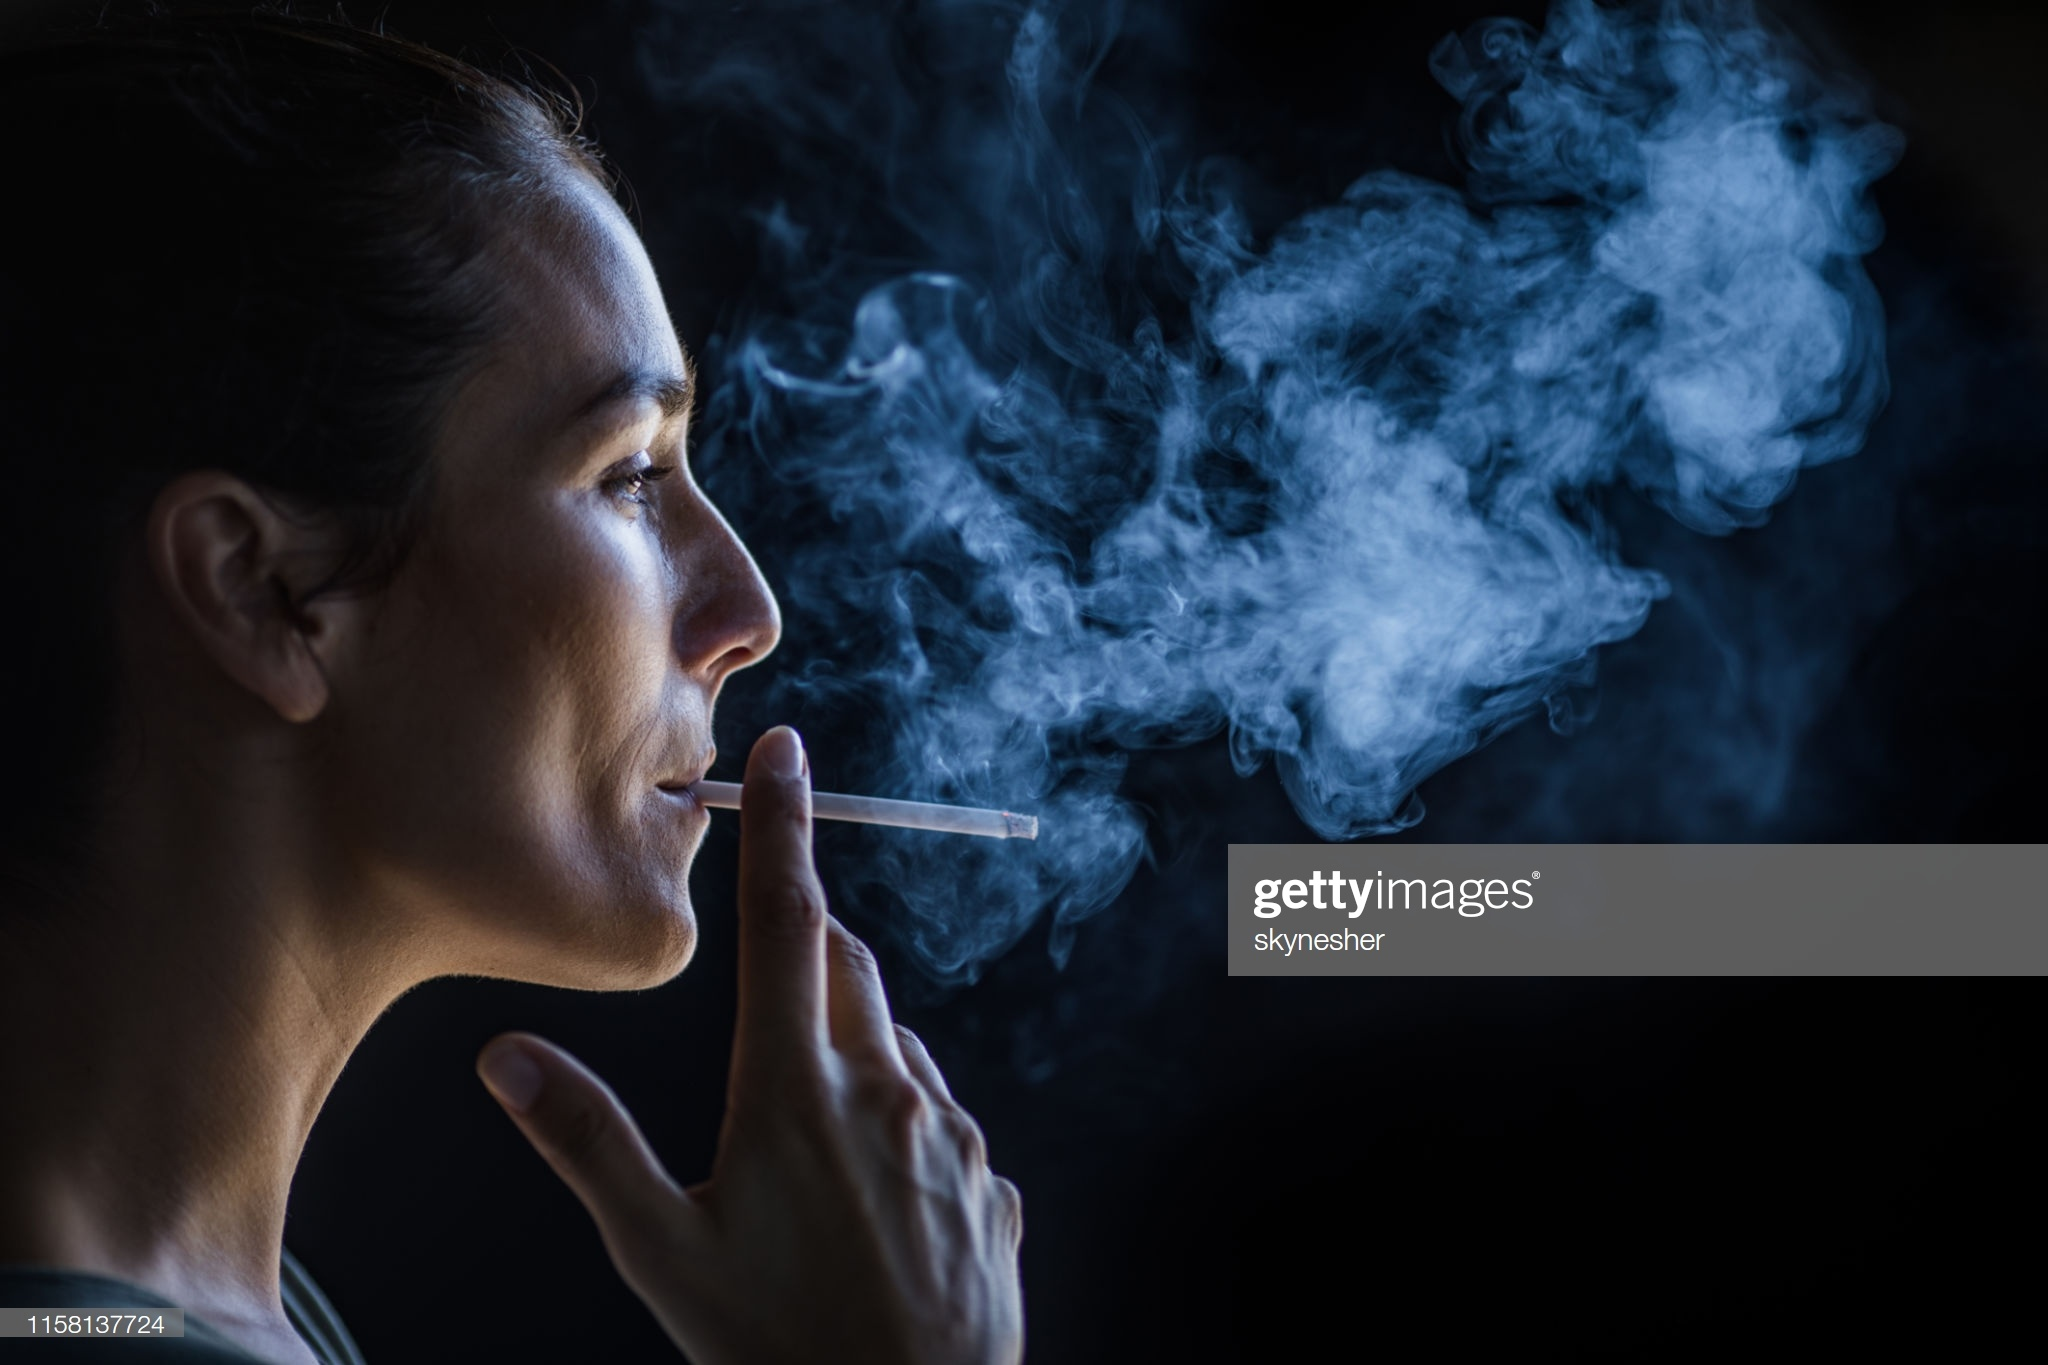sigaretta: (678, 762, 1058, 861)
